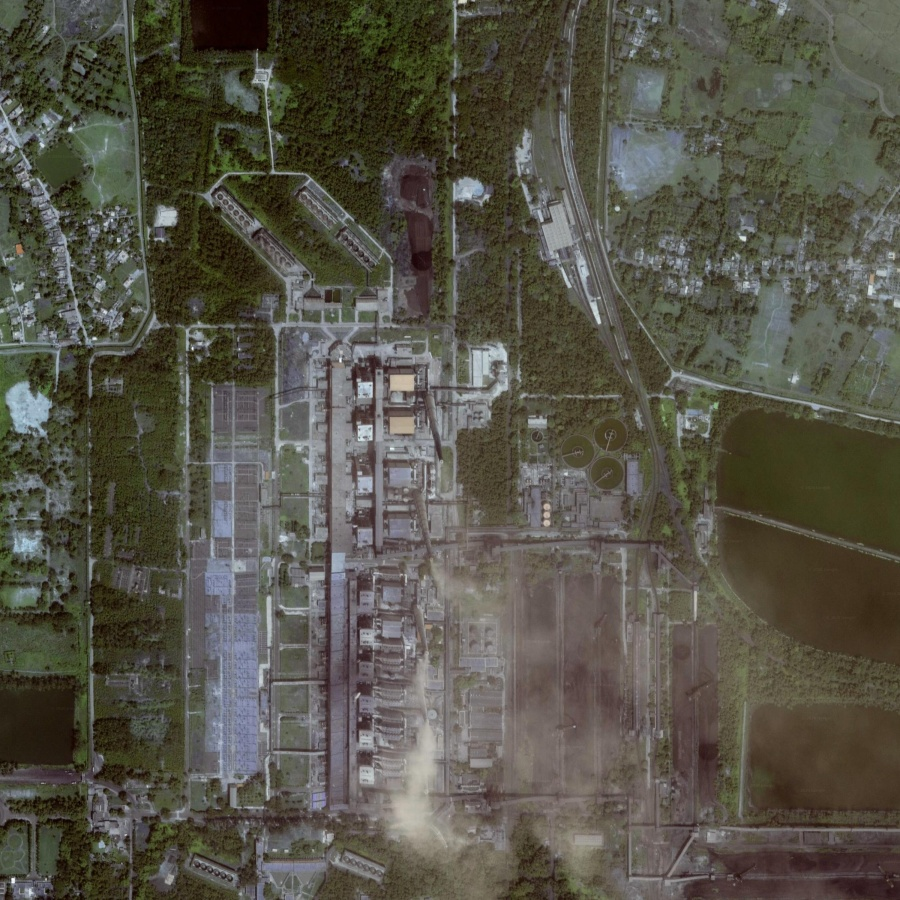PowerPlant: (400, 543, 730, 864)
